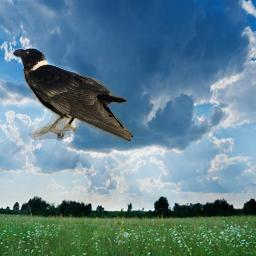Crow: (11, 45, 133, 141)
